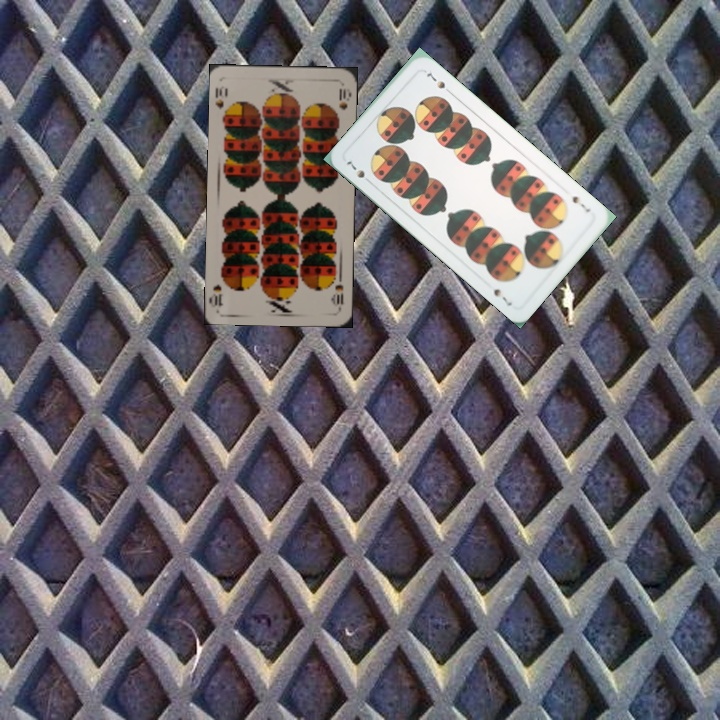S10: (212, 82, 231, 120), (328, 281, 346, 311)
S7: (342, 155, 375, 187), (568, 192, 593, 215)
